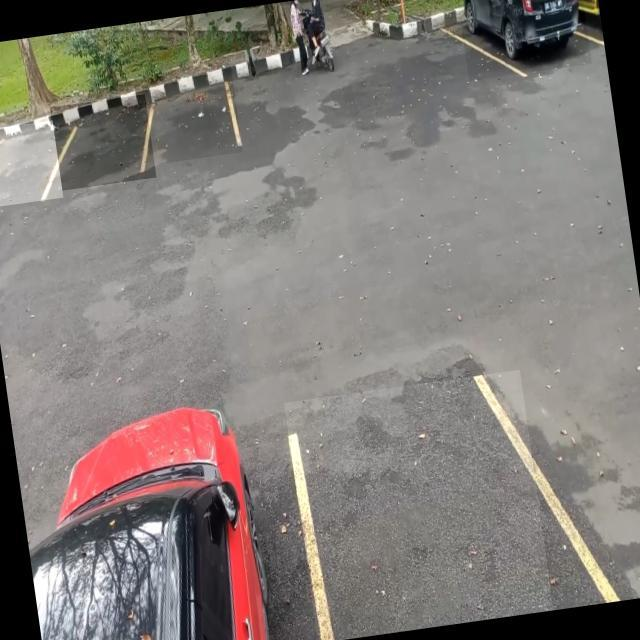empty: (284, 369, 554, 640), (140, 63, 243, 165), (50, 94, 157, 191), (0, 120, 63, 209)
occupied: (455, 0, 592, 81)
